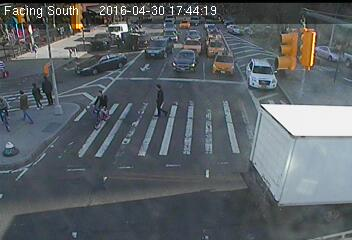neg: (313, 34, 342, 73), (113, 34, 140, 71), (206, 35, 232, 70), (294, 29, 317, 60), (267, 29, 289, 58), (149, 38, 168, 63), (181, 29, 199, 54), (87, 27, 104, 50)
pos: (143, 80, 171, 119), (7, 88, 34, 123), (42, 72, 68, 106), (25, 78, 47, 107), (25, 39, 40, 59)
